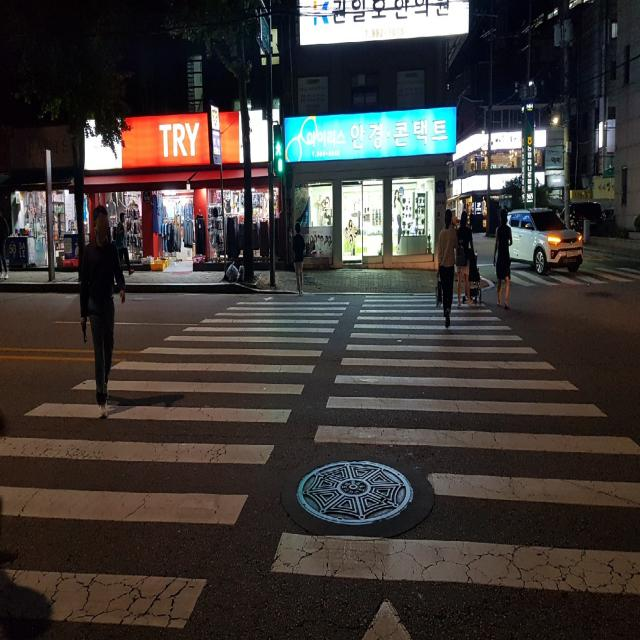초록불: (272, 123, 286, 179)
횡단보도: (0, 295, 640, 640)
